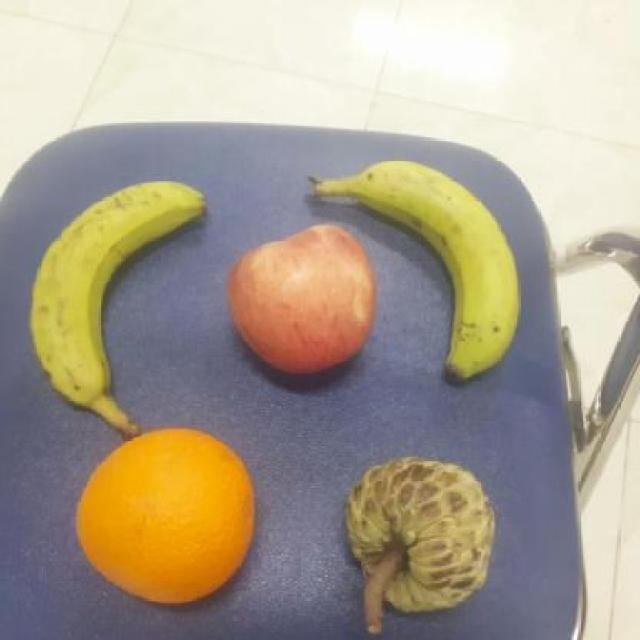apple: (227, 223, 376, 375)
banana: (304, 158, 521, 382), (28, 180, 208, 408)
oren: (75, 425, 257, 604)
sugar apple: (345, 456, 493, 612)
